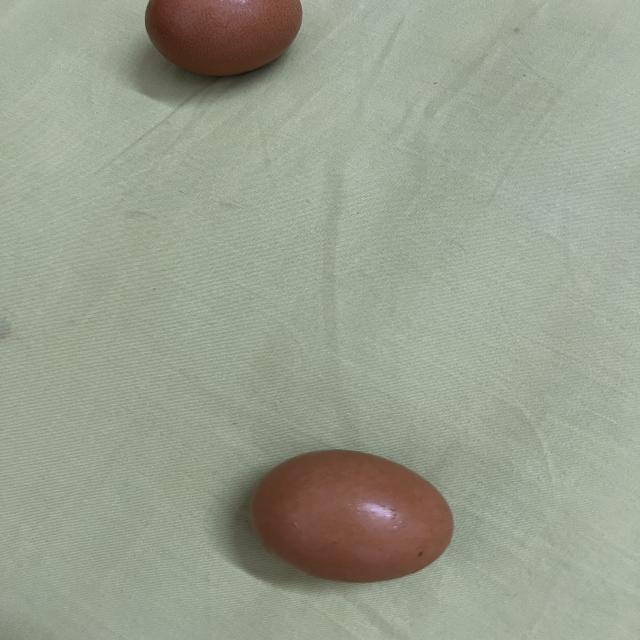Egg: (248, 443, 464, 588), (140, 0, 304, 88)
